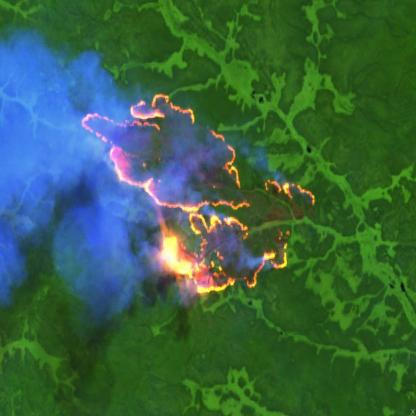fire: (77, 84, 319, 300)
